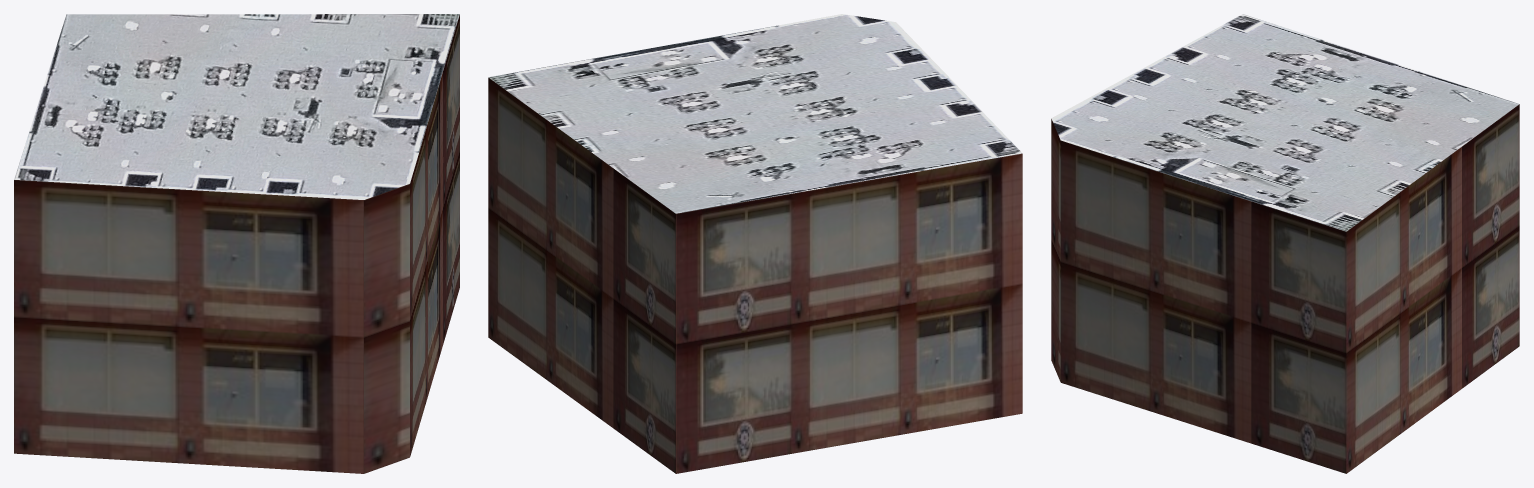
The model's file is ResTex__3480.fbx.
3 views of the same model, side by side, from view 1: azimuth 30°, elevation 25°; view 2: azimuth 150°, elevation 25°; view 3: azimuth 270°, elevation 25° (orthographic). The views are drawn at different scales.
Parts seen in each view (by area): view 1: CityEngineMaterial_13_m, CityEngineMaterial_4_m; view 2: CityEngineMaterial_13_m, CityEngineMaterial_4_m; view 3: CityEngineMaterial_13_m, CityEngineMaterial_4_m.
Part boxes in pixels (left/top/right/bottom): CityEngineMaterial_13_m: left=14, top=14, right=459, bottom=473; CityEngineMaterial_4_m: left=14, top=14, right=459, bottom=199; CityEngineMaterial_13_m: left=488, top=77, right=1022, bottom=473; CityEngineMaterial_4_m: left=488, top=14, right=1022, bottom=213; CityEngineMaterial_13_m: left=1051, top=104, right=1519, bottom=473; CityEngineMaterial_4_m: left=1051, top=14, right=1519, bottom=231.
Size of the model in its own units: 11.56 by 6 by 10.51.
2 materials, 2 textured.
